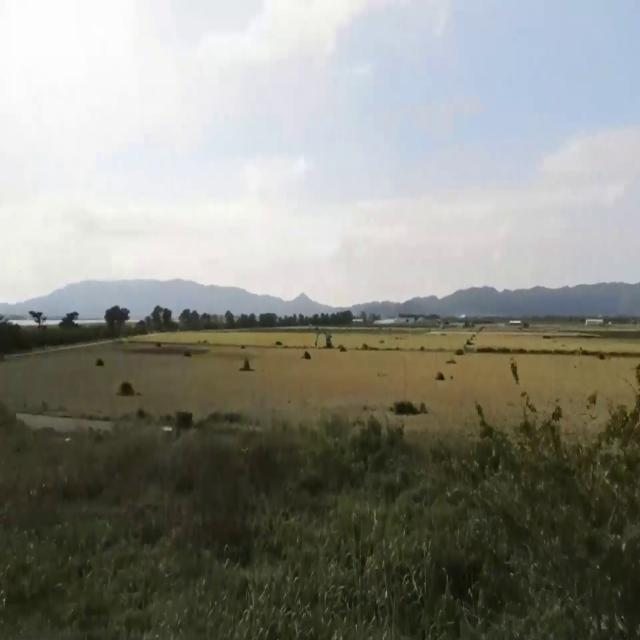bird: (95, 348, 104, 376)
